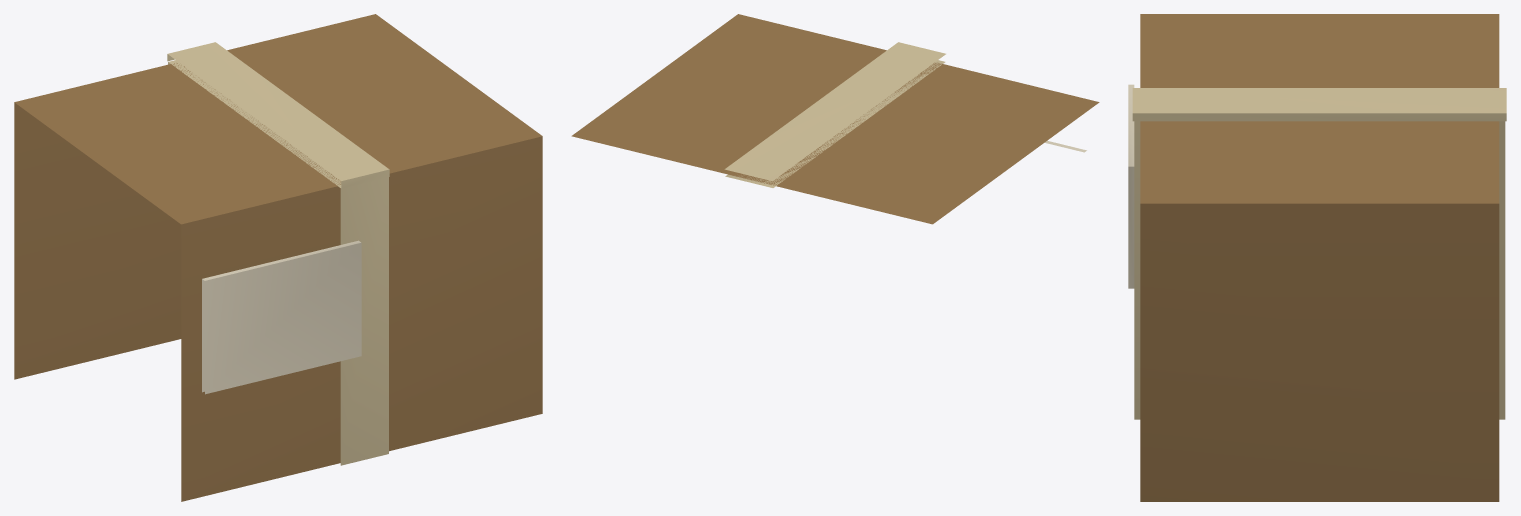
File: order_parcel.glb
The picture shows the model from 3 angles, left to right: view 1: azimuth 30°, elevation 25°; view 2: azimuth 150°, elevation 25°; view 3: azimuth 270°, elevation 25°; orthographic projection. The views are drawn at different scales.
Visible parts, largest first — view 1: OrderParcel_Mesh; view 2: OrderParcel_Mesh; view 3: OrderParcel_Mesh.
Part boxes in pixels (left/top/right/bottom): OrderParcel_Mesh: left=14, top=14, right=542, bottom=501; OrderParcel_Mesh: left=571, top=14, right=1099, bottom=224; OrderParcel_Mesh: left=1128, top=14, right=1506, bottom=501.
Size of the model in its own units: 0.3 by 0.226 by 0.253.
